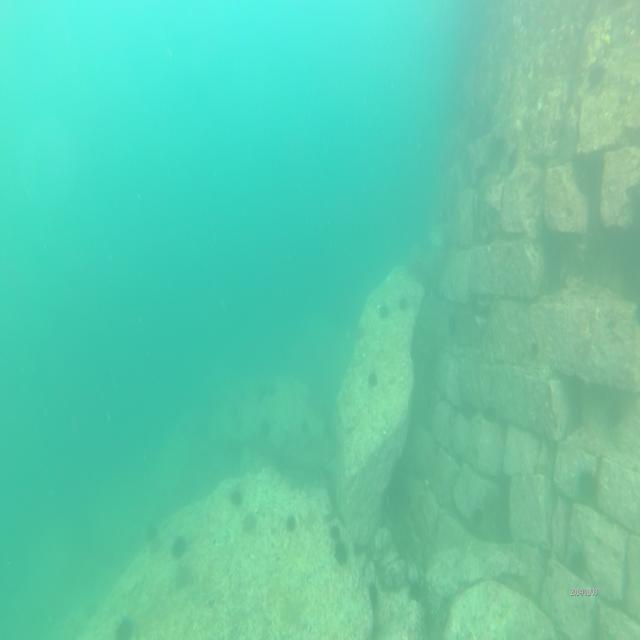echinus: (571, 466, 601, 511), (568, 546, 590, 582), (585, 57, 604, 95), (240, 508, 260, 539), (113, 613, 135, 640), (332, 536, 349, 570), (472, 499, 485, 537), (408, 576, 424, 604), (171, 534, 188, 558), (367, 578, 379, 611), (446, 310, 459, 340), (229, 484, 244, 510), (529, 336, 543, 363), (145, 516, 159, 540), (284, 510, 296, 537), (398, 290, 410, 317), (367, 369, 381, 392), (298, 414, 309, 441), (260, 417, 274, 438), (379, 300, 391, 324), (354, 320, 368, 340), (330, 520, 340, 540)
